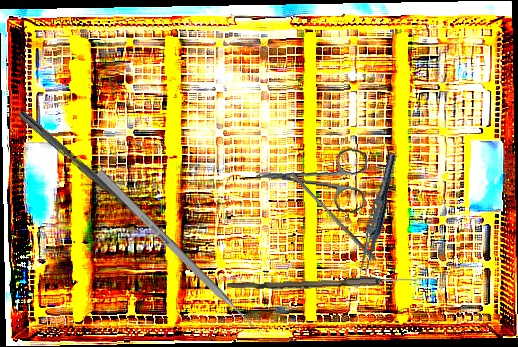Iris Scissors: (252, 140, 370, 214)
Pusher: (95, 168, 267, 341), (286, 171, 381, 262)
Surgical Spoon: (17, 110, 177, 251), (226, 272, 436, 294)
Tissue Forceps: (354, 150, 401, 279)
